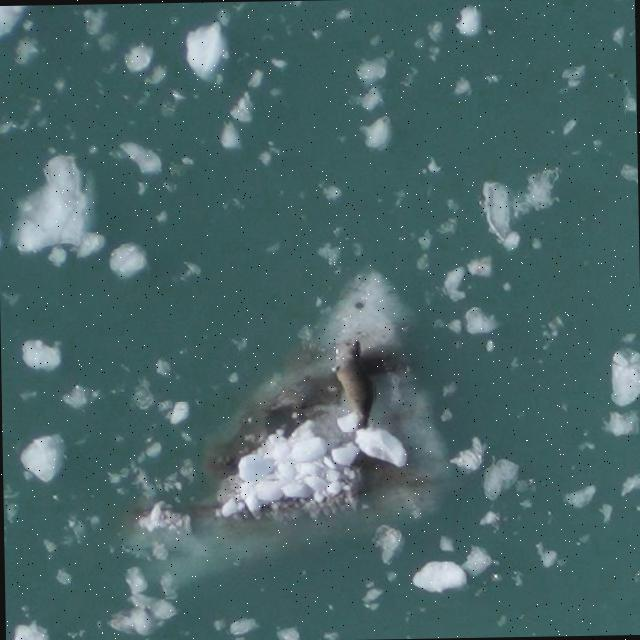seal: (336, 337, 375, 431)
